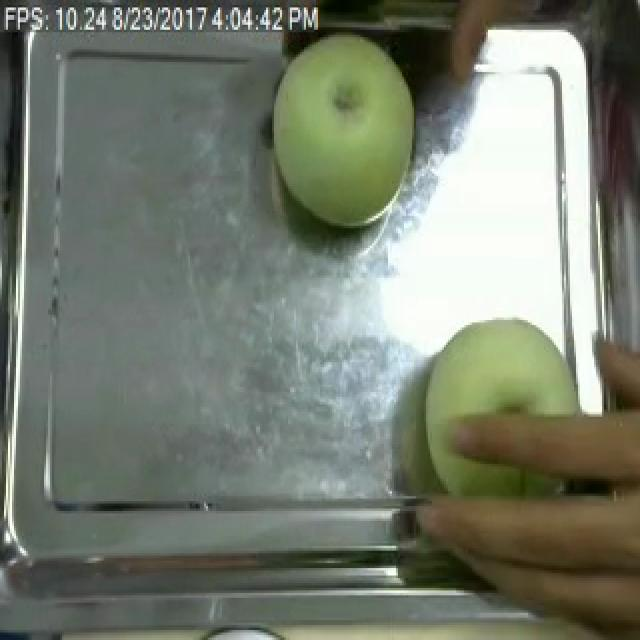50-_ripeness: (262, 36, 440, 249), (426, 295, 584, 515)
